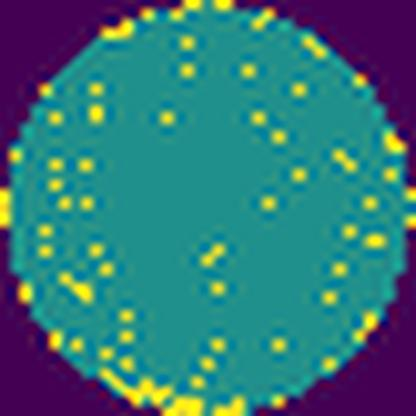Edge-Loc: (94, 364, 209, 415), (208, 395, 249, 416)
